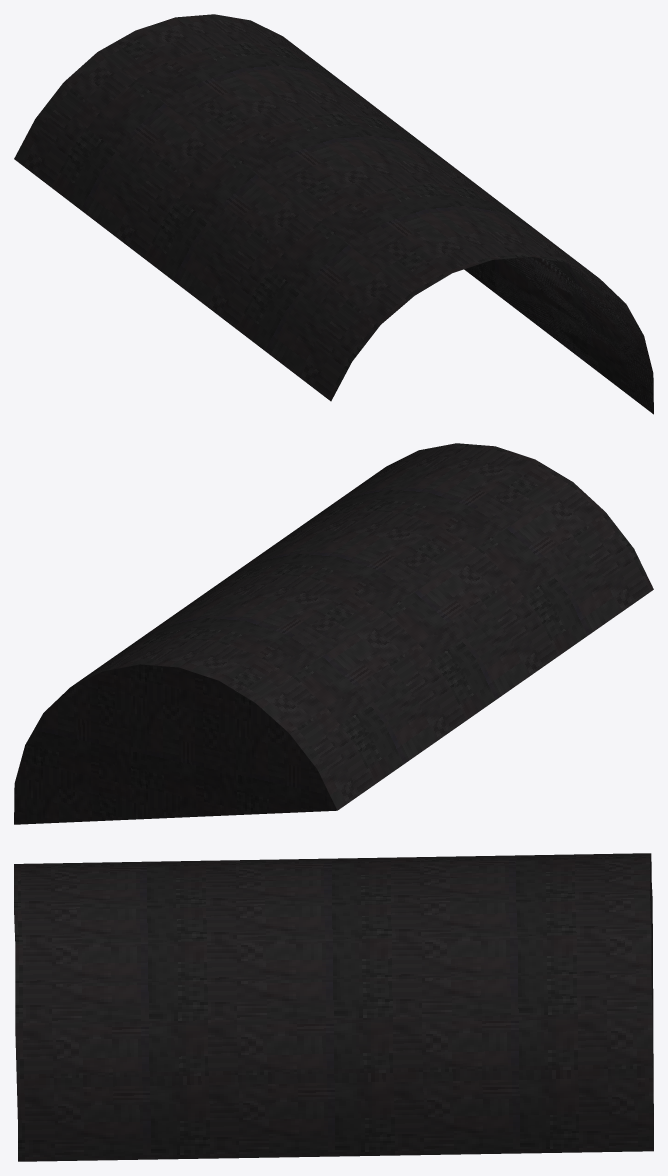
Rendered from original-240.obj.
3 renders of one model, top to bottom at view 1: azimuth 30°, elevation 25°; view 2: azimuth 150°, elevation 25°; view 3: azimuth 270°, elevation 25°, orthographic.
Visible parts, largest first — view 1: Group9/mesh100/mesh100-geometry/material_1/component_48#mesh100-; view 2: Group9/mesh100/mesh100-geometry/material_1/component_48#mesh100-; view 3: Group9/mesh100/mesh100-geometry/material_1/component_48#mesh100-.
Part boxes in pixels (left/top/right/bottom): Group9/mesh100/mesh100-geometry/material_1/component_48#mesh100-: left=14, top=14, right=653, bottom=414; Group9/mesh100/mesh100-geometry/material_1/component_48#mesh100-: left=14, top=443, right=653, bottom=824; Group9/mesh100/mesh100-geometry/material_1/component_48#mesh100-: left=14, top=853, right=653, bottom=1161.
Size of the model in its own units: 0.0192 by 0.0117 by 0.0329.
Materials: 2 (2 with a texture image).
